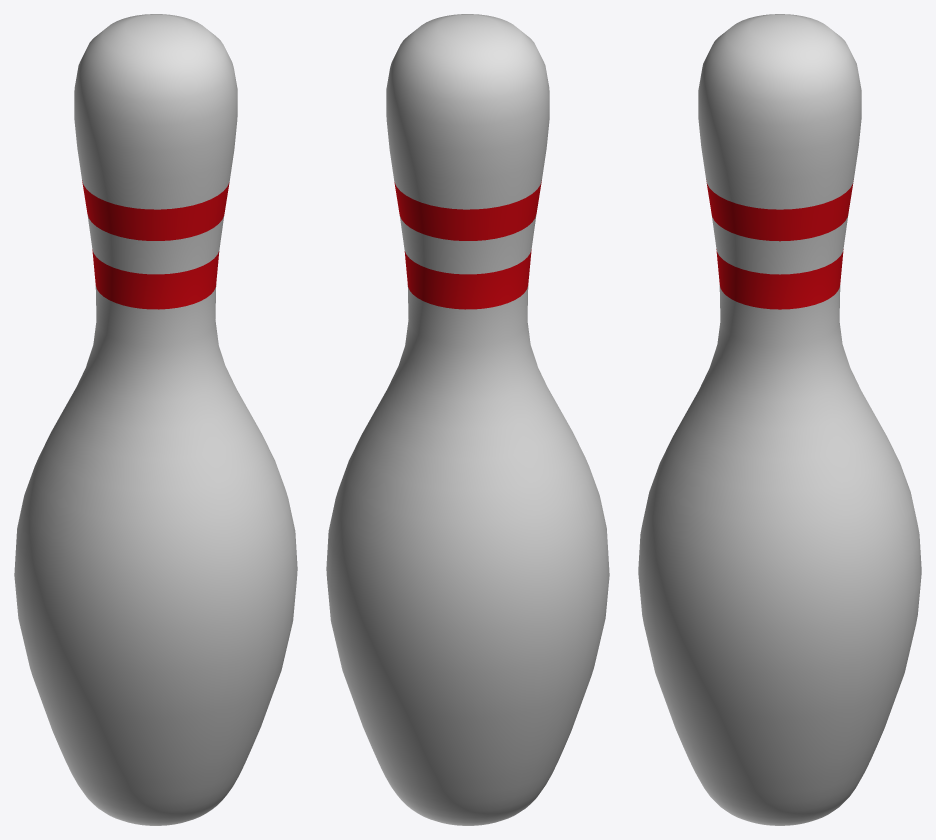
The model's file is bowlingPin.glb.
3 views of the same model, side by side, from view 1: azimuth 30°, elevation 25°; view 2: azimuth 150°, elevation 25°; view 3: azimuth 270°, elevation 25° (orthographic).
Visible parts, largest first — view 1: Pin1; view 2: Pin1; view 3: Pin1.
Part boxes in pixels (<box>): Pin1: <box>14,14,297,825</box>; Pin1: <box>326,14,609,825</box>; Pin1: <box>638,14,921,825</box>.
Size of the model in its own units: 1.24 by 3.8 by 1.24.
